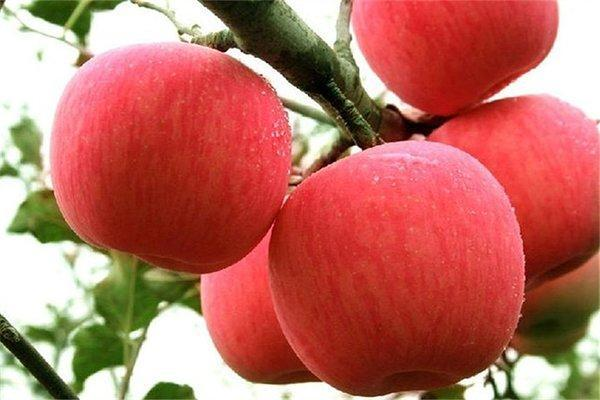apple: (265, 138, 529, 396), (49, 42, 292, 272), (424, 97, 597, 272), (345, 1, 559, 120), (199, 253, 320, 384)
